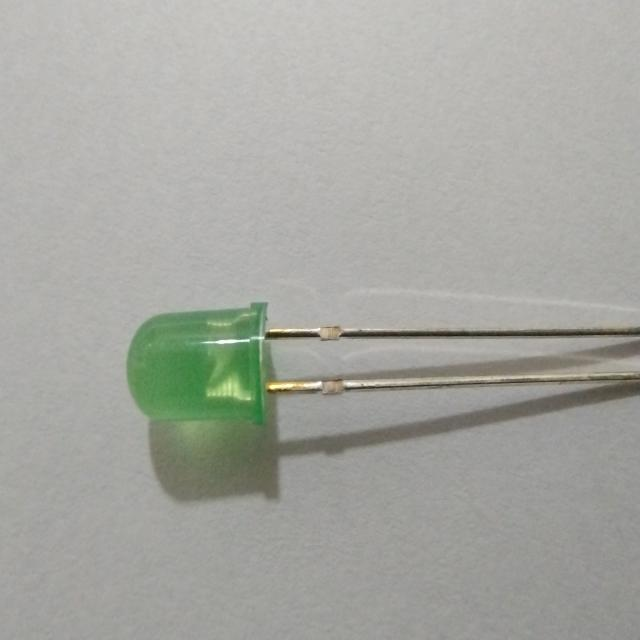green_led: (120, 291, 278, 442)
